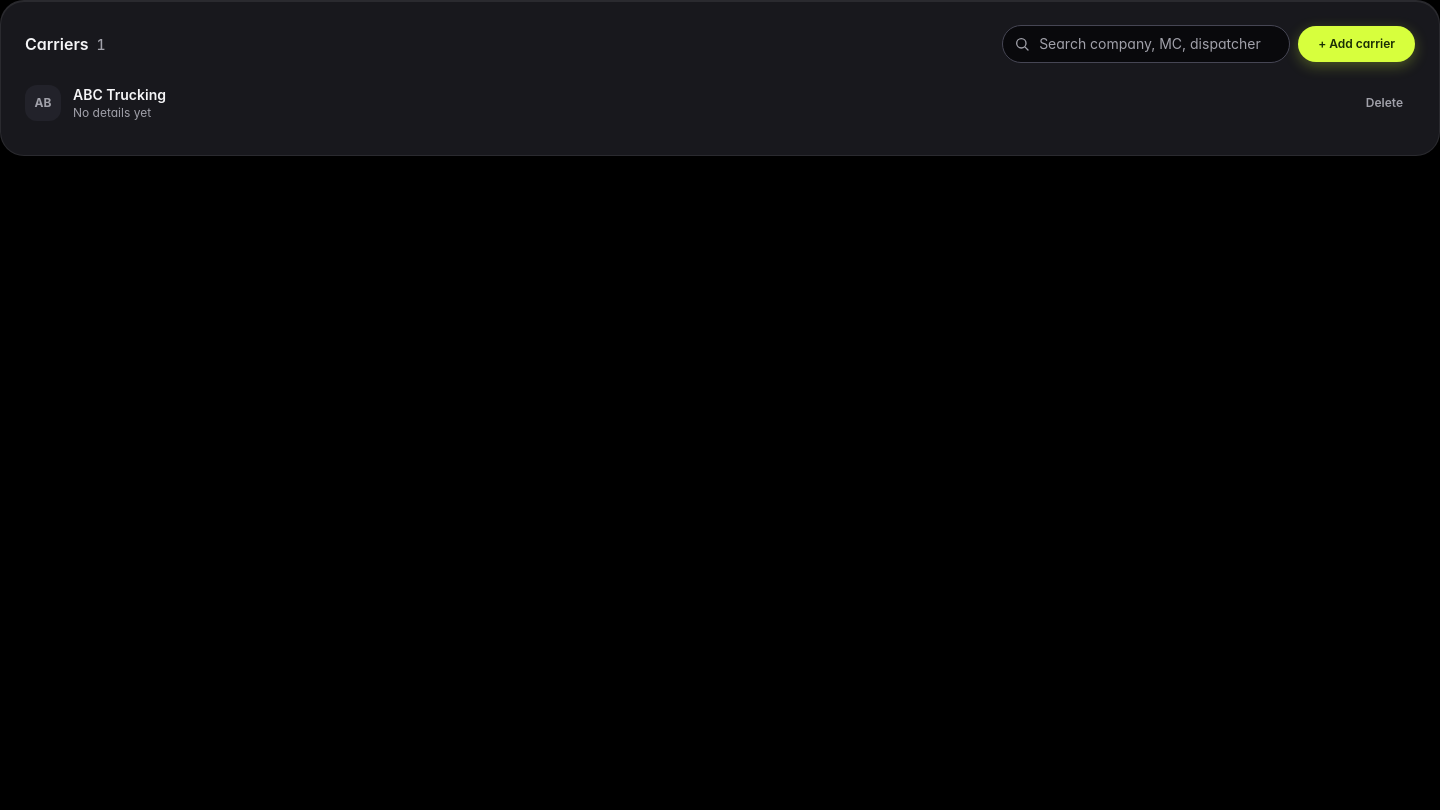
CarriersPanel › the detail sheet renders at the top of the page, not inside the list card
Click the text "ABC Trucking".
click(120, 95)  # box top-left (73, 85), bottom-right (166, 105)
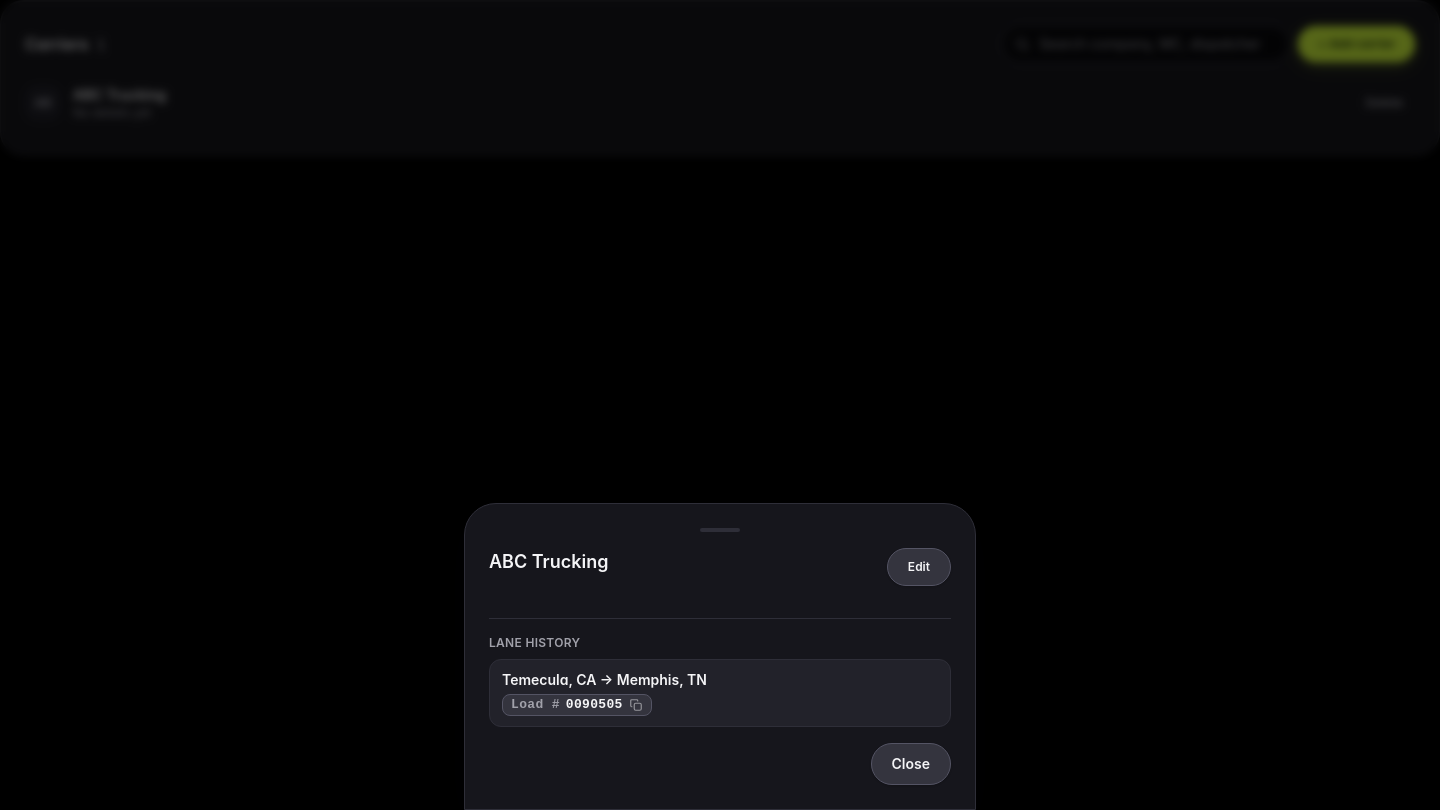
Check: the button with aria-label "copy load number 0090505" is shown, box top-left (502, 694), bottom-right (652, 716)
